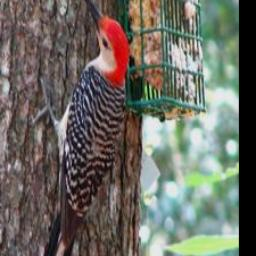Woodpecker: (26, 0, 129, 256)
